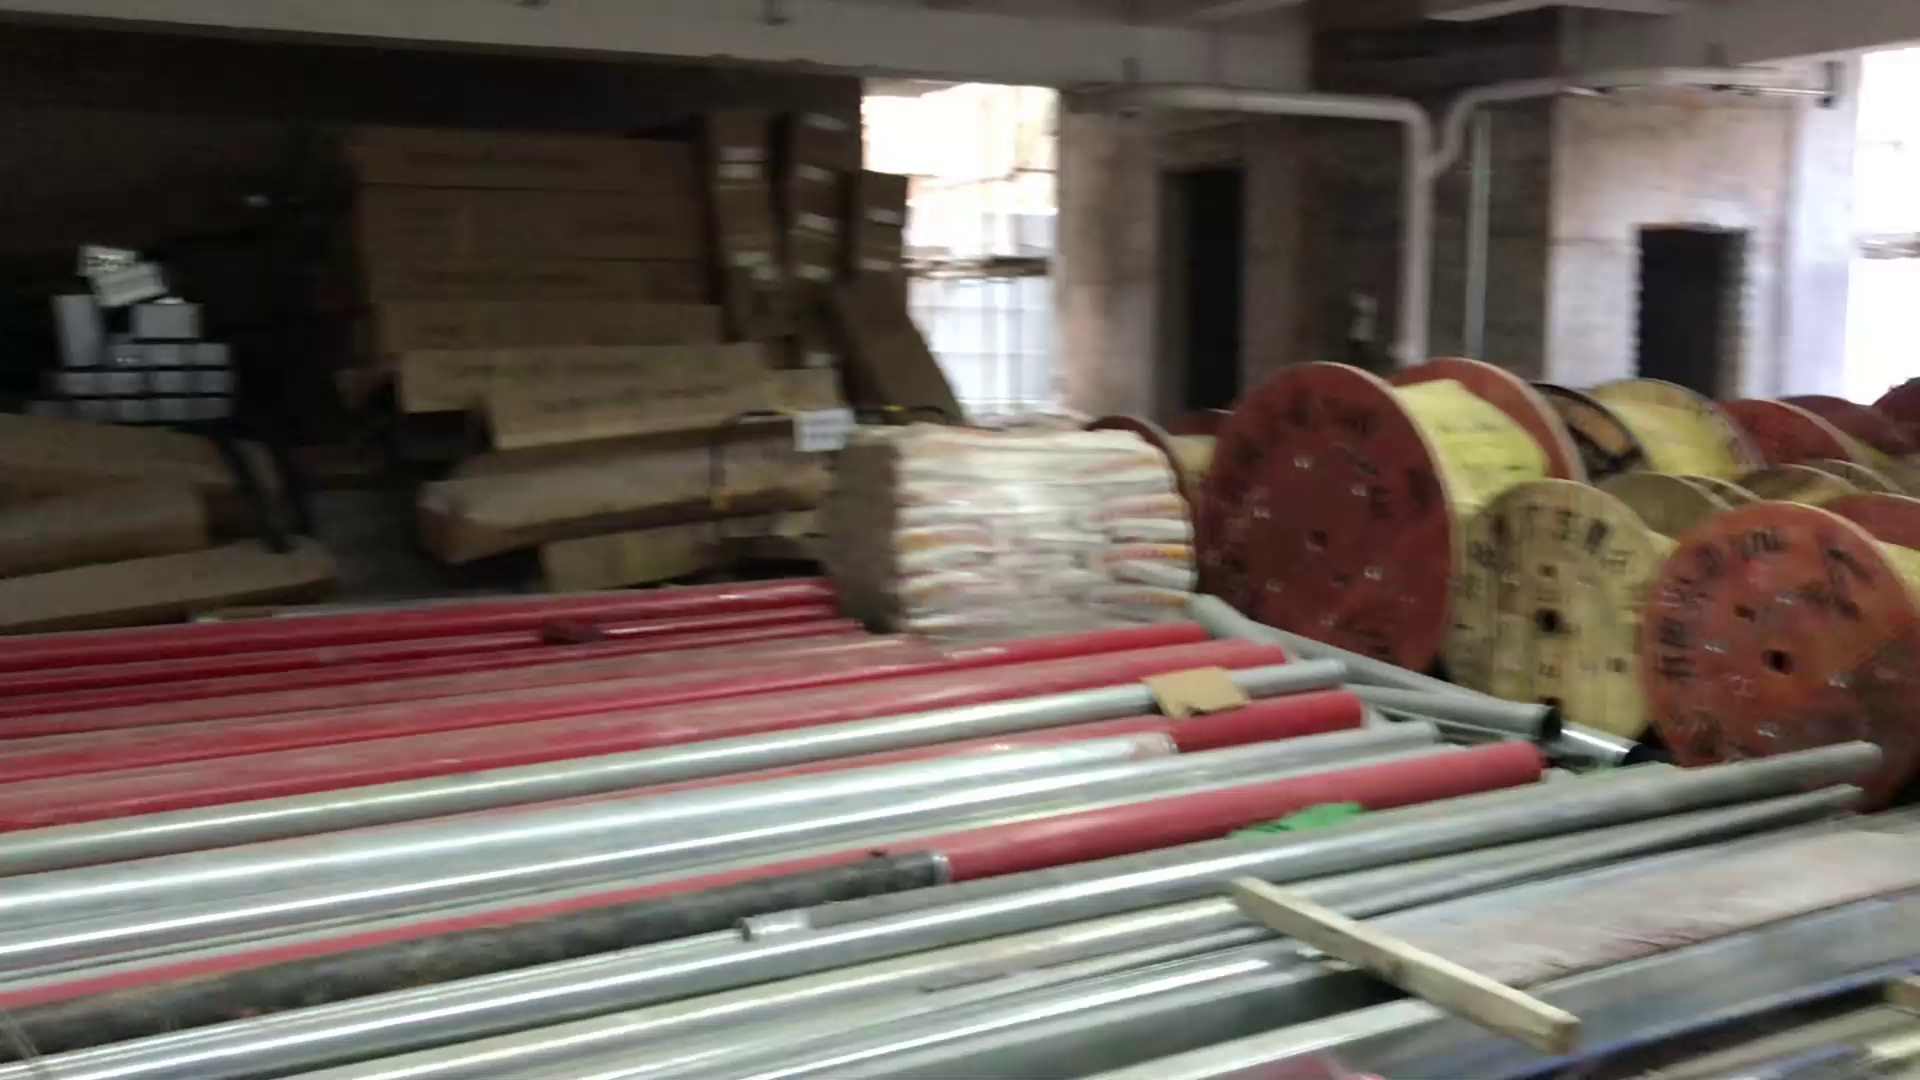slogan: (795, 411, 860, 450)
